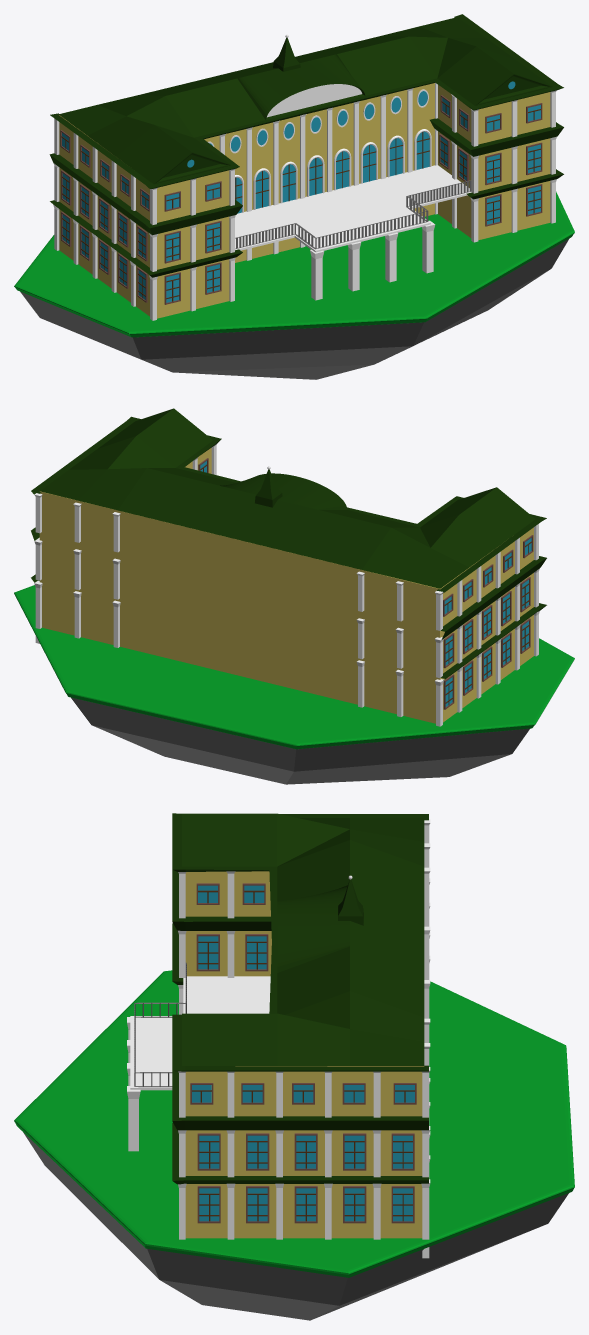
Rendered from petr_I_cadet.glb.
3 renders of one model, top to bottom at view 1: azimuth 30°, elevation 25°; view 2: azimuth 150°, elevation 25°; view 3: azimuth 270°, elevation 25°, orthographic. The views are drawn at different scales.
Parts seen in each view (by area): view 1: трава?, крыша, БОЛЬШОЙ КУБ, камень(большой), штуки от дождя, балкое, колонны бока, колоы перед, окно, забор, Plane.004, колонны низ (+13 smaller); view 2: БОЛЬШОЙ КУБ, крыша, трава?, камень(большой), колонны бока, штуки от дождя, Cube.011, Plane.006, Cube.012, Cube.005, штука на крыше, Plane.003; view 3: трава?, крыша, БОЛЬШОЙ КУБ, камень(большой), штуки от дождя, колонны бока, Plane.006, балкое, Cube.011, Plane.003, Cube.012, Plane.005 (+5 smaller).
Part boxes in pixels (x1,y1,x2,y2): трава?: [14, 191, 574, 337]; крыша: [59, 17, 552, 183]; БОЛЬШОЙ КУБ: [59, 83, 550, 318]; камень(большой): [20, 238, 569, 379]; штуки от дождя: [49, 14, 563, 277]; балкое: [235, 165, 471, 252]; колонны бока: [53, 36, 556, 320]; колоы перед: [219, 88, 413, 260]; окно: [235, 131, 429, 213]; забор: [235, 180, 471, 249]; Plane.004: [166, 144, 540, 302]; колонны низ: [310, 220, 435, 300]; БОЛЬШОЙ КУБ: [39, 448, 533, 723]; крыша: [40, 408, 535, 588]; трава?: [14, 585, 574, 749]; камень(большой): [71, 697, 529, 784]; колонны бока: [34, 444, 539, 726]; штуки от дождя: [31, 416, 546, 680]; Cube.011: [443, 577, 530, 709]; Plane.006: [445, 580, 528, 706]; Cube.012: [445, 583, 529, 704]; Cube.005: [443, 535, 533, 616]; штука на крыше: [255, 469, 282, 507]; Plane.003: [444, 538, 531, 613]; трава?: [14, 970, 574, 1277]; крыша: [182, 813, 424, 1065]; БОЛЬШОЙ КУБ: [185, 871, 424, 1238]; камень(большой): [23, 1132, 568, 1320]; штуки от дождя: [172, 813, 428, 1184]; колонны бока: [178, 819, 430, 1258]; Plane.006: [199, 1135, 412, 1221]; балкое: [130, 976, 270, 1090]; Cube.011: [197, 1133, 414, 1223]; Plane.003: [192, 1085, 414, 1102]; Cube.012: [199, 1141, 412, 1221]; Plane.005: [198, 936, 266, 969].
Bounding box in the file's own units: 15.21 × 8.86 × 11.08.
